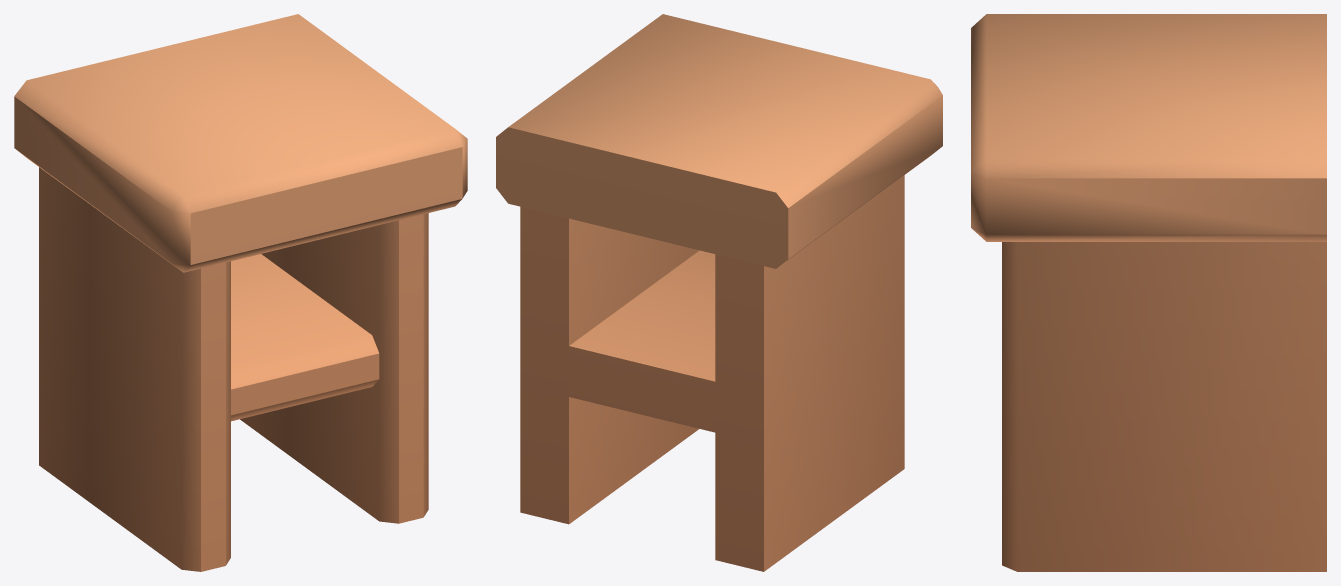
Rendered from countertop-closet-b-small.glb.
3 renders of one model, left to right at view 1: azimuth 30°, elevation 25°; view 2: azimuth 150°, elevation 25°; view 3: azimuth 270°, elevation 25°, orthographic. The views are drawn at different scales.
Visible parts, largest first — view 1: countertop_closet_B_small; view 2: countertop_closet_B_small; view 3: countertop_closet_B_small.
Part boxes in pixels (box(x1,y1,x2,y2)): countertop_closet_B_small: box(14, 14, 467, 571); countertop_closet_B_small: box(496, 14, 942, 571); countertop_closet_B_small: box(971, 14, 1326, 571).
Size of the model in its own units: 1.2 by 1.5 by 1.15.
1 material, 1 textured.
